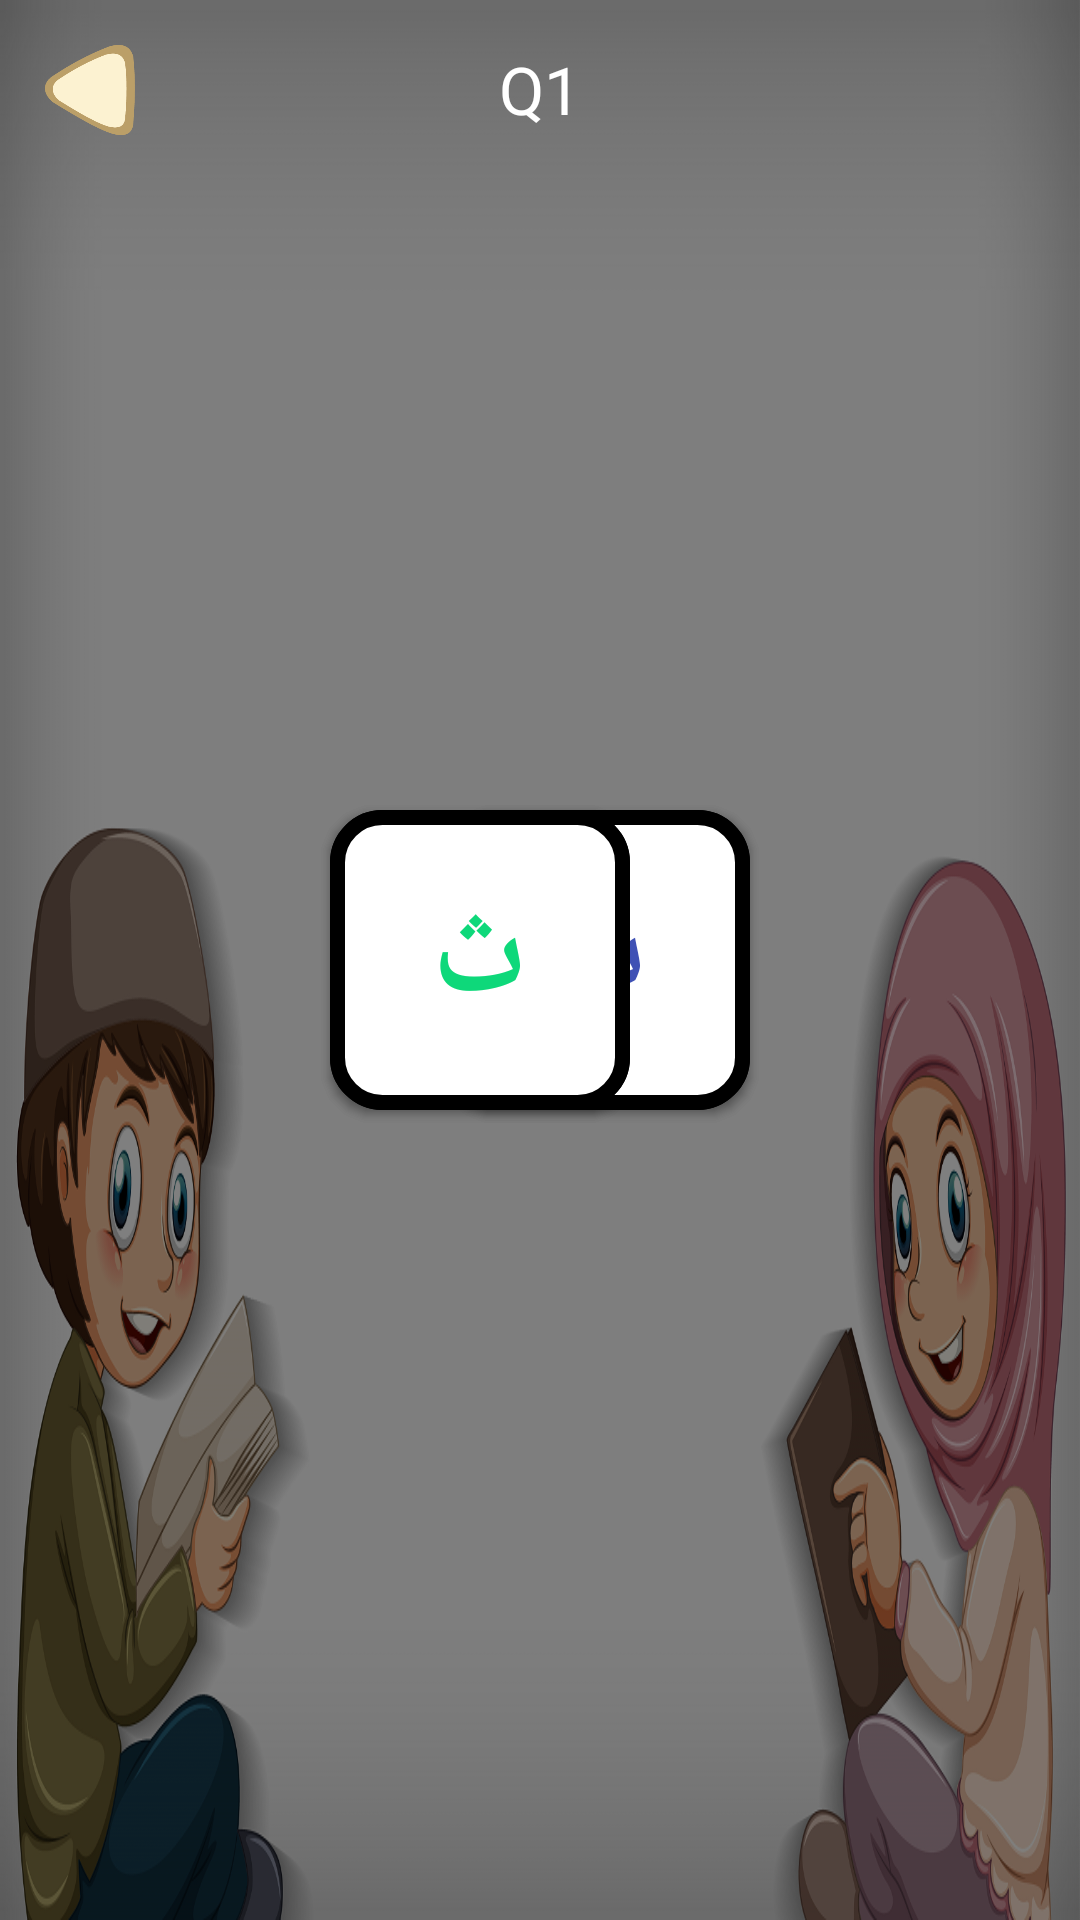

Where to tap for icons on this 1080 × 1920 app screen, as (x=x, y=y):
back: (x=90, y=90)
